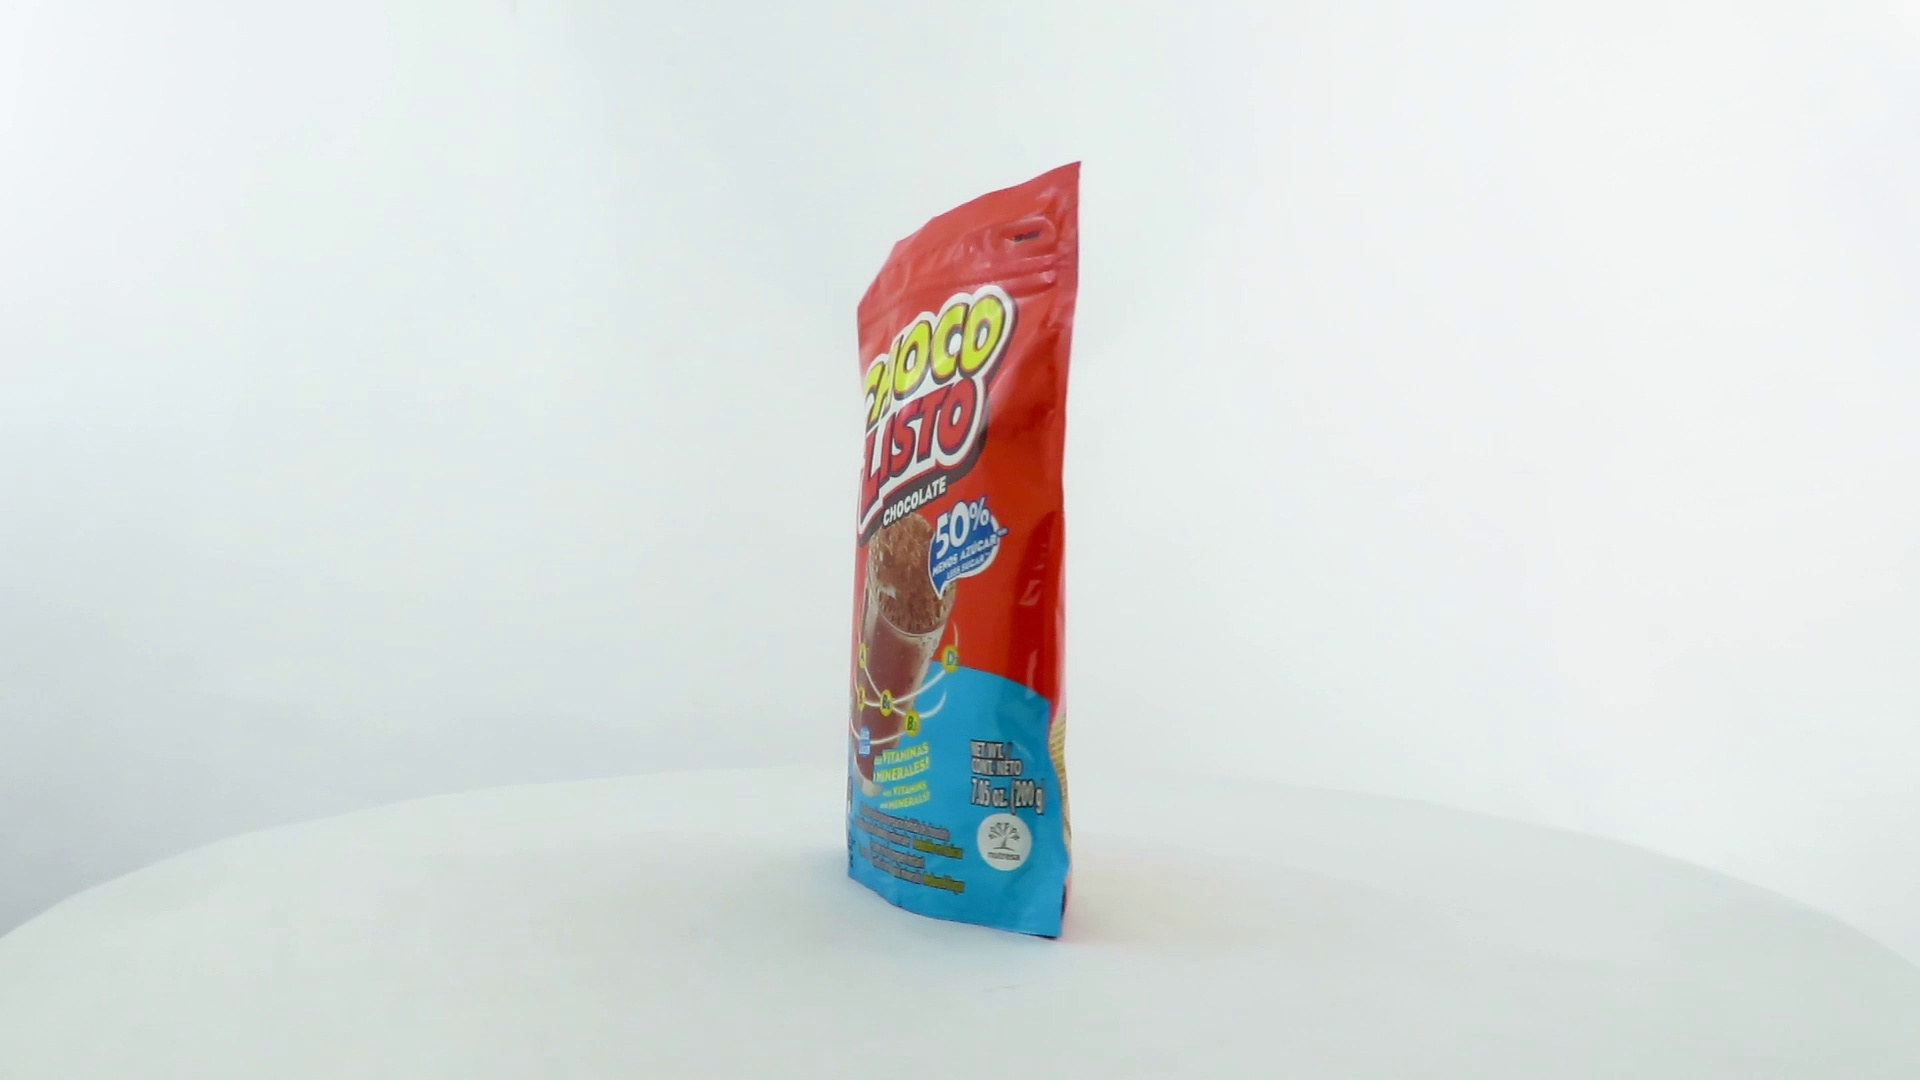COL0170104DYP20000: (840, 156, 1087, 947)
